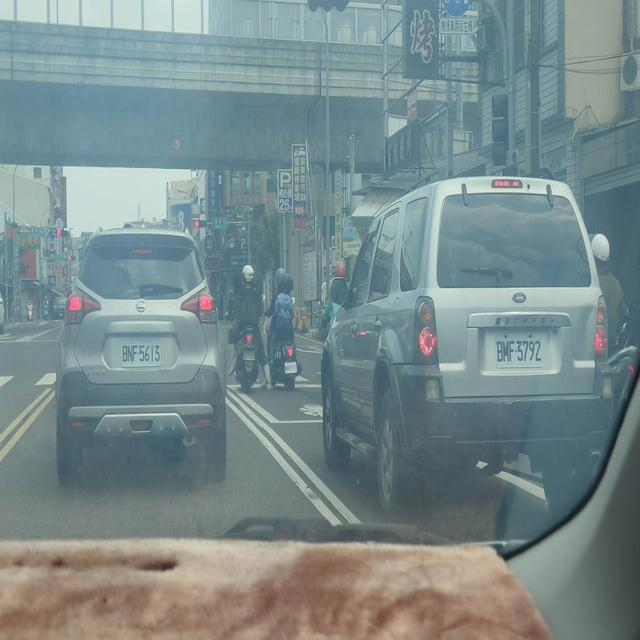license: (493, 334, 545, 366), (117, 335, 164, 366)
